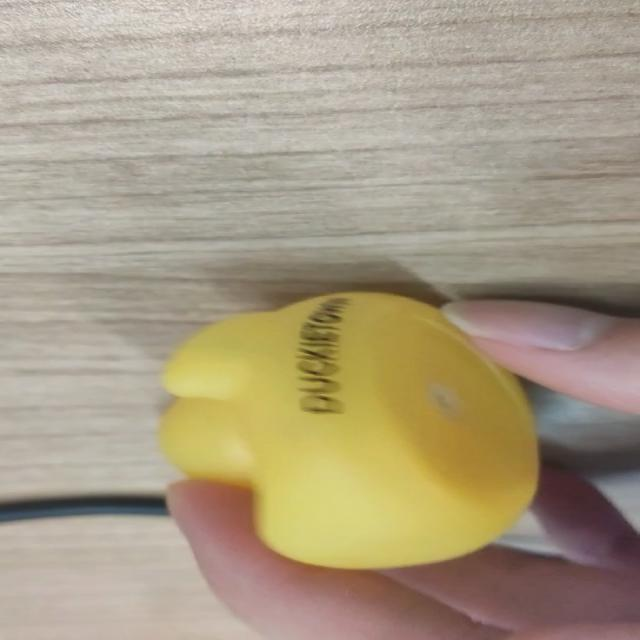rubber-duck: (158, 291, 536, 566)
